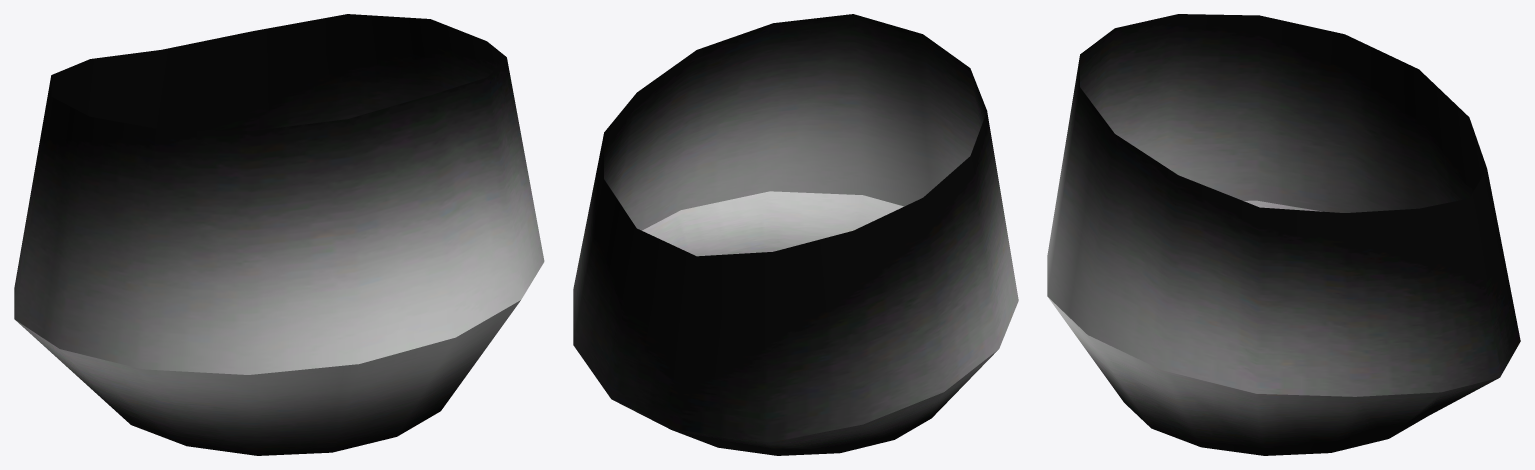
Rendered from vfx_kurp_0607.dae.
3 renders of one model, left to right at view 1: azimuth 30°, elevation 25°; view 2: azimuth 150°, elevation 25°; view 3: azimuth 270°, elevation 25°, orthographic. The views are drawn at different scales.
Parts seen in each view (by area): view 1: vfx_kurp_0607; view 2: vfx_kurp_0607; view 3: vfx_kurp_0607.
Part boxes in pixels (bbox=[...]): vfx_kurp_0607: bbox=[14, 14, 544, 455]; vfx_kurp_0607: bbox=[573, 14, 1018, 455]; vfx_kurp_0607: bbox=[1047, 14, 1520, 455].
Bounding box in the file's own units: 3.51 × 3.49 × 2.6.
1 material, 1 textured.
